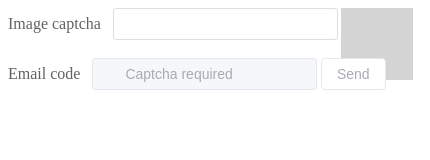
Test: <EmailCodeBlock /> › Incorrect captcha
Note: Input captcha
Type "1234" into the field labelled "Image captcha" at (237, 24), box [146, 9, 327, 39]
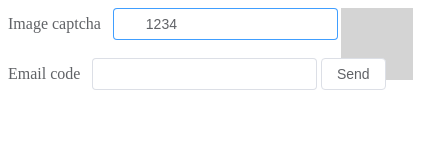
Click the button "Send" at (354, 74), box [321, 58, 386, 90]
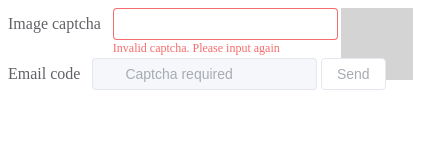
Now the field labelled "Image captcha" is empty, box [146, 9, 327, 39]
Now the field with test id "emailCode" is disabled, box [125, 59, 306, 89]
Now the button "Send" is disabled, box [321, 58, 386, 90]
